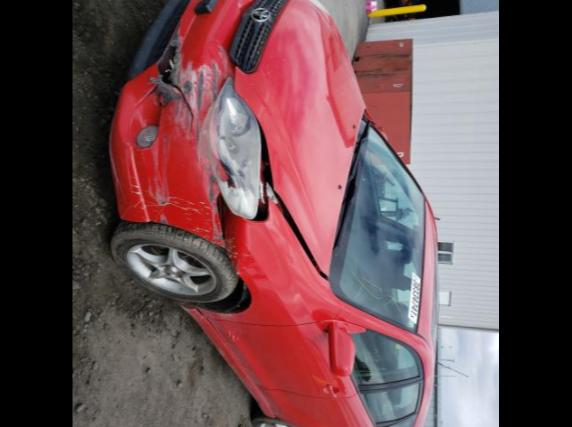Broken part: (108, 0, 251, 260), (244, 112, 328, 282), (210, 76, 266, 218), (190, 0, 212, 7)
Dent: (223, 208, 248, 274)
Paint chip: (148, 72, 200, 146), (178, 59, 223, 110)
Scratch: (156, 34, 194, 124)
